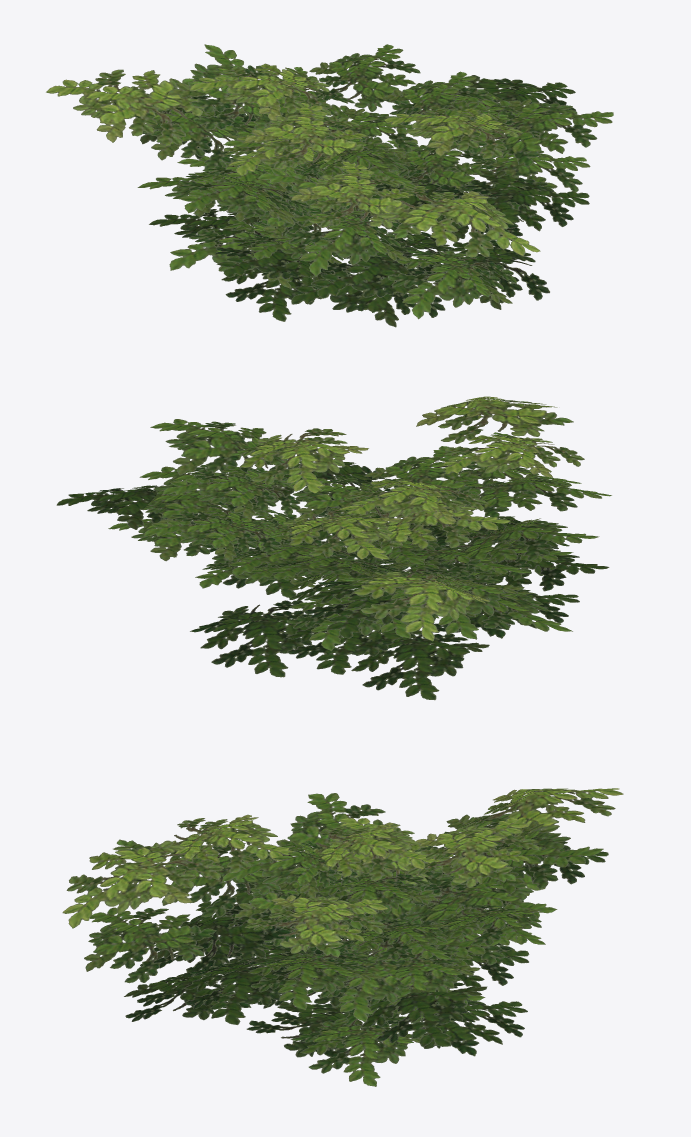
File: S_Tree_Green028.FBX
The picture shows the model from 3 angles, top to bottom: view 1: azimuth 30°, elevation 25°; view 2: azimuth 150°, elevation 25°; view 3: azimuth 270°, elevation 25°; orthographic projection. The views are drawn at different scales.
Parts seen in each view (by area): view 1: S_Tree_Green028; view 2: S_Tree_Green028; view 3: S_Tree_Green028.
Boxes of the visible parts, x1,y1,x2,y2 form: S_Tree_Green028: (46,44,613,327); S_Tree_Green028: (56,396,611,700); S_Tree_Green028: (62,788,623,1086).
Bounding box in the file's own units: 366 × 96.28 × 375.
